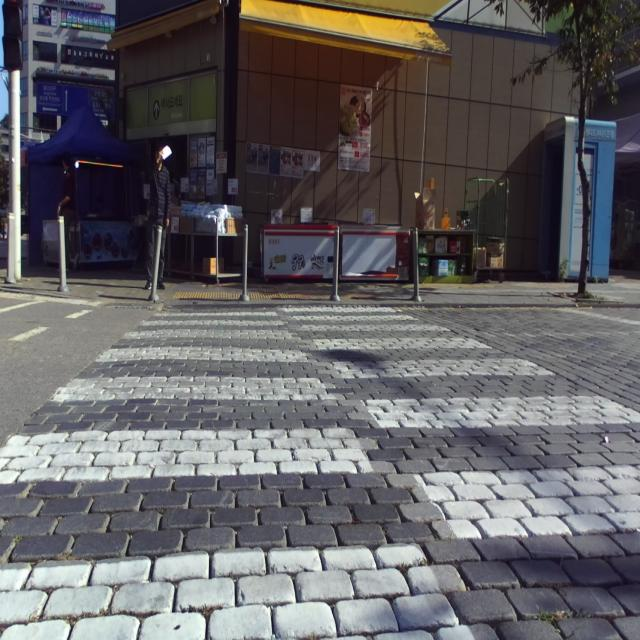횡단보도: (0, 306, 640, 640)
